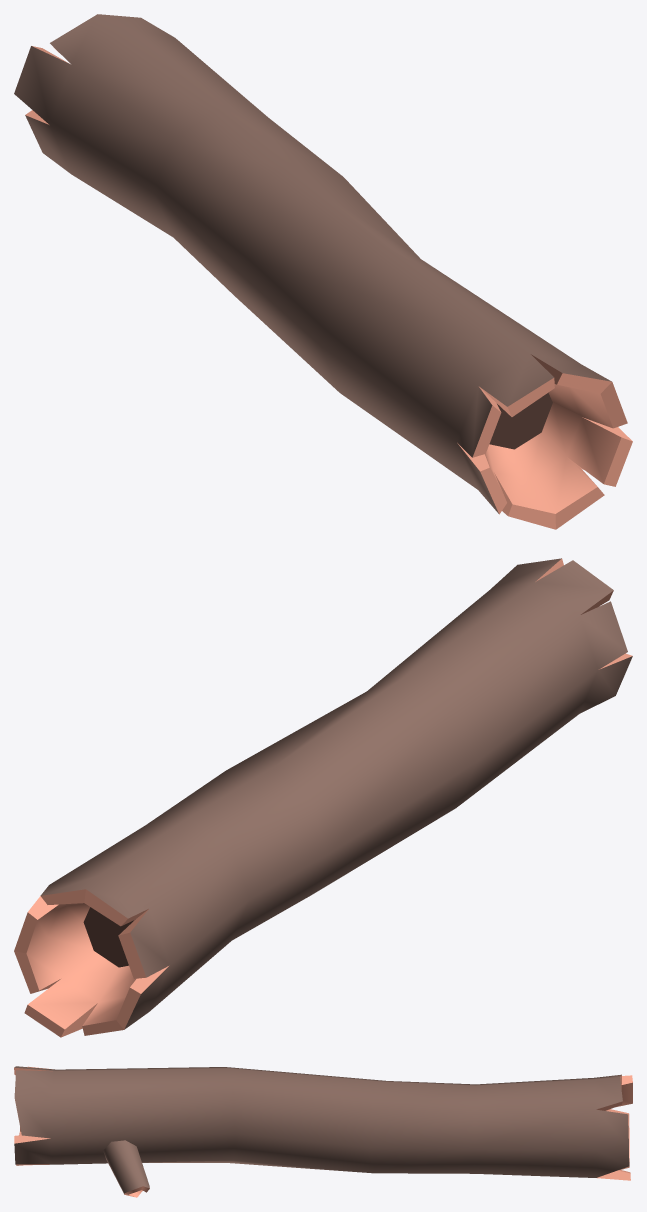
The model's file is deadwood_027.glb.
3 renders of one model, top to bottom at view 1: azimuth 30°, elevation 25°; view 2: azimuth 150°, elevation 25°; view 3: azimuth 270°, elevation 25°, orthographic. The views are drawn at different scales.
Visible parts, largest first — view 1: deadwood_027; view 2: deadwood_027; view 3: deadwood_027.
Boxes of the visible parts, x1,y1,x2,y2 form: deadwood_027: (14,14,632,529); deadwood_027: (14,558,632,1037); deadwood_027: (14,1066,632,1197).
Bounding box in the file's own units: 1.05 × 0.8212 × 4.64.
Materials: 1 (1 with a texture image).
